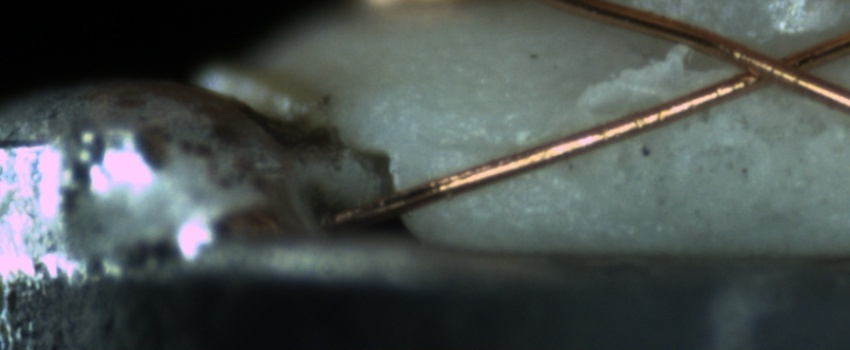CL: (700, 33, 835, 97)
DL: (424, 116, 552, 175)
